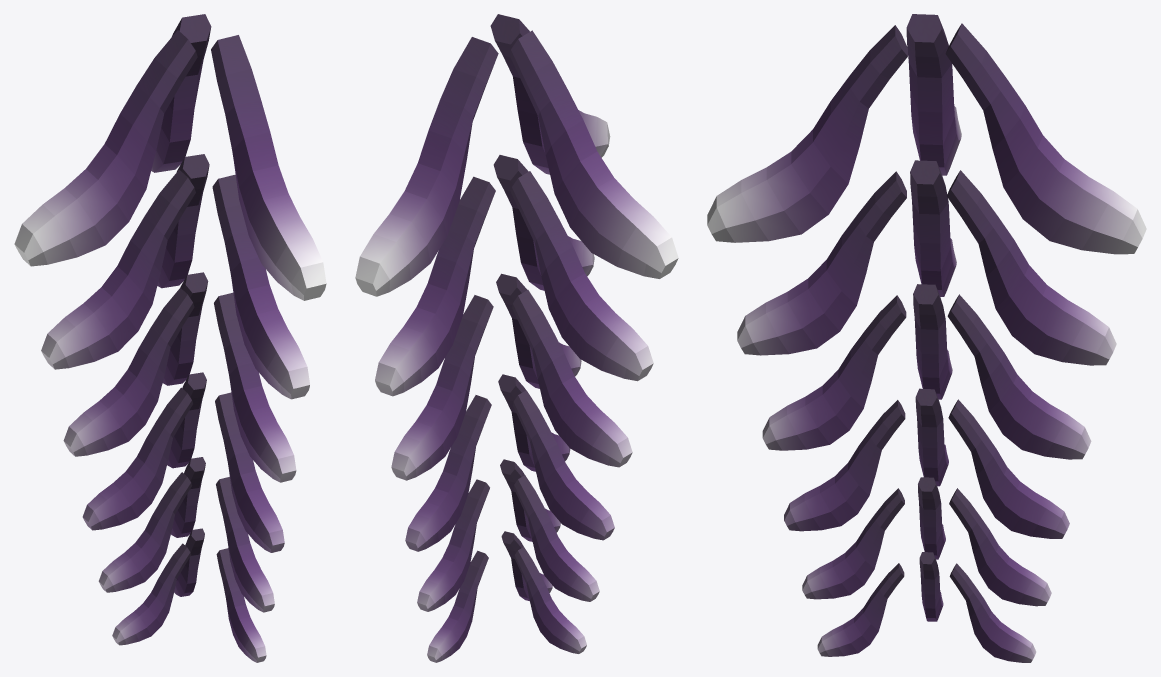
Rendered from GlycineFlower.fbx.
3 views of the same model, side by side, from view 1: azimuth 30°, elevation 25°; view 2: azimuth 150°, elevation 25°; view 3: azimuth 270°, elevation 25° (orthographic). The views are drawn at different scales.
Visible parts, largest first — view 1: Plane.054; view 2: Plane.054; view 3: Plane.054.
Part boxes in pixels (box(x1,y1,x2,y2)): Plane.054: box(14, 14, 326, 662); Plane.054: box(355, 14, 678, 662); Plane.054: box(707, 14, 1146, 662).
Bounding box in the file's own units: 494 × 1253 × 797.
